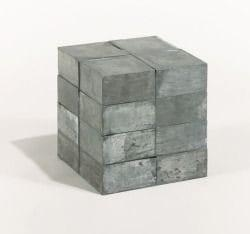cubos: (51, 32, 218, 198)
